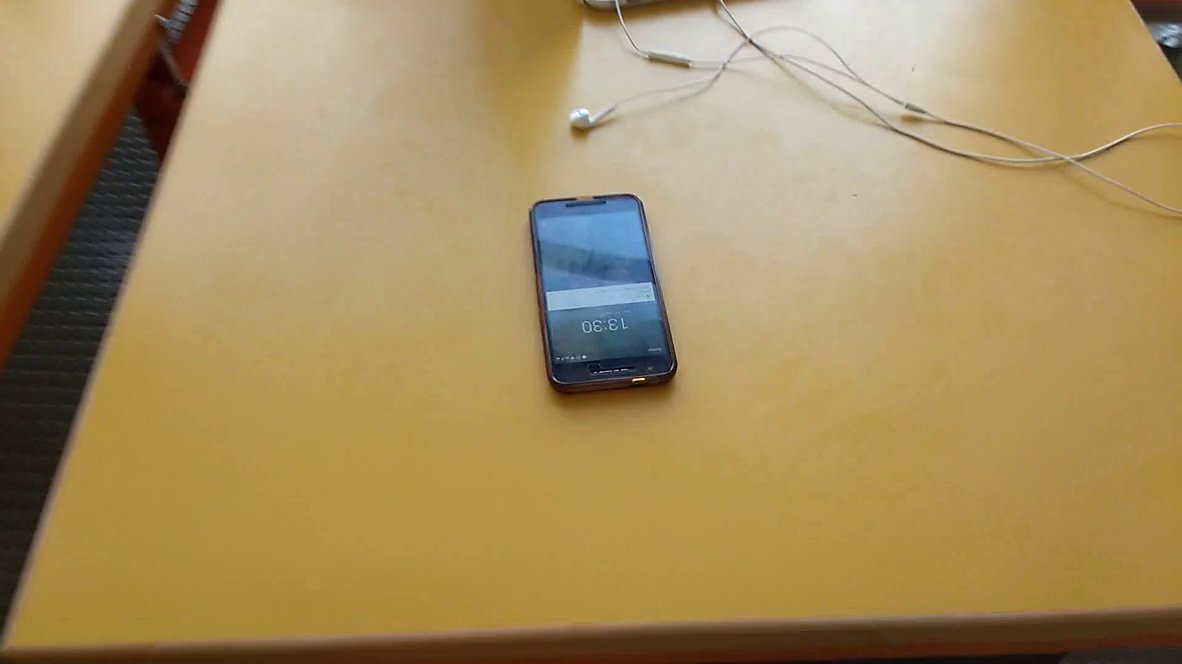phone: (515, 184, 697, 420)
